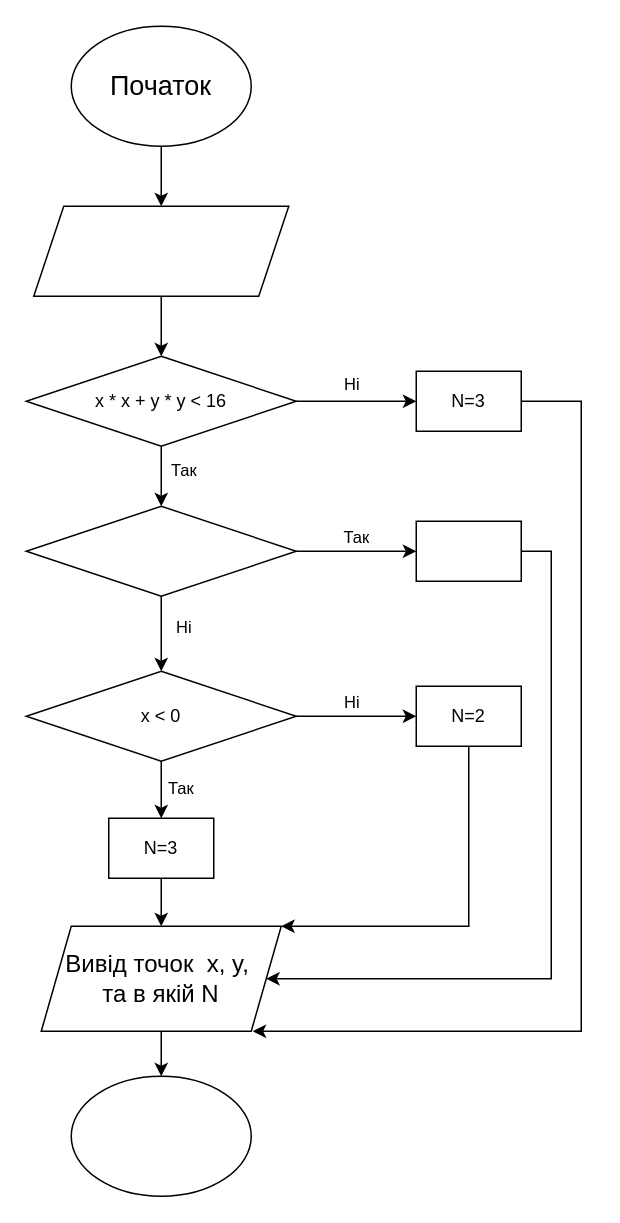
Some shapes in this 620 by 1223 pixel diagram are drawn without their labels. The centre of each missing label's shape, as x and y in pixels:
N=1: point (468, 550)
x * y > 0: point (160, 550)
Ввести значення x y: point (160, 250)
Кінець: point (160, 1135)
